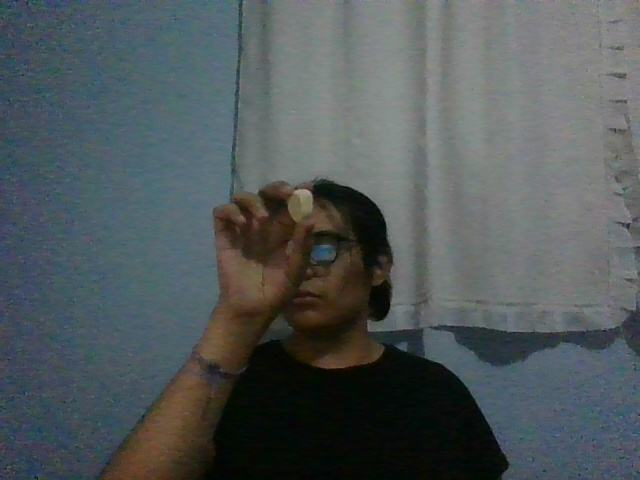goma: (287, 189, 313, 223)
